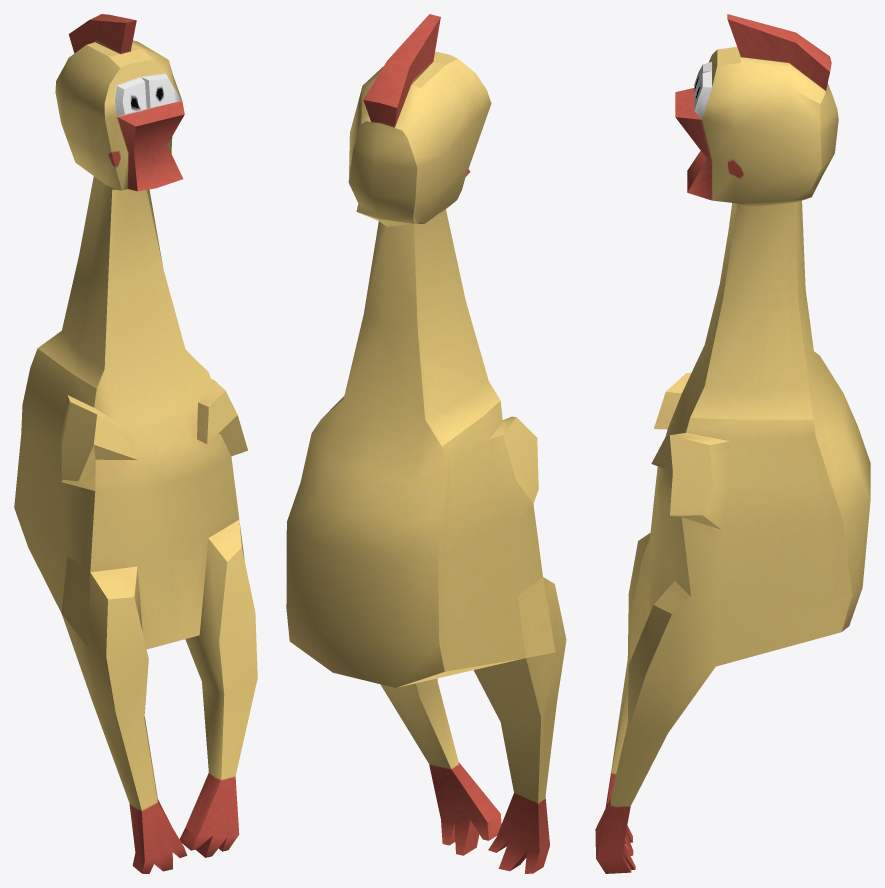
Rendered from toyChicken.fbx.
3 renders of one model, left to right at view 1: azimuth 30°, elevation 25°; view 2: azimuth 150°, elevation 25°; view 3: azimuth 270°, elevation 25°, orthographic. The views are drawn at different scales.
Visible parts, largest first — view 1: pCube1; view 2: pCube1; view 3: pCube1.
Part boxes in pixels (box(x1,y1,x2,y2)): pCube1: box(14, 14, 257, 873); pCube1: box(286, 14, 566, 873); pCube1: box(595, 14, 870, 873).
Size of the model in its own units: 0.6054 by 2.63 by 0.7733.
Materials: 1 (1 with a texture image).
